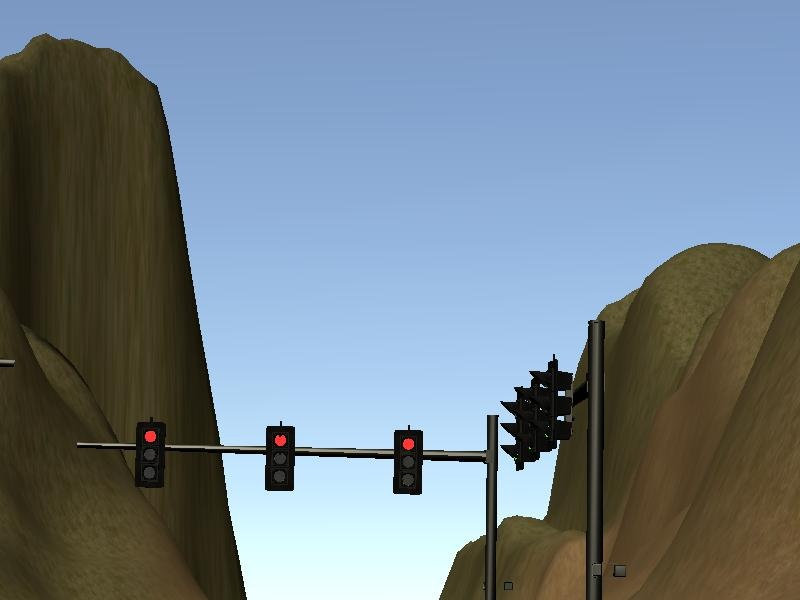red: (259, 419, 302, 499), (131, 417, 173, 493), (389, 424, 426, 501)
